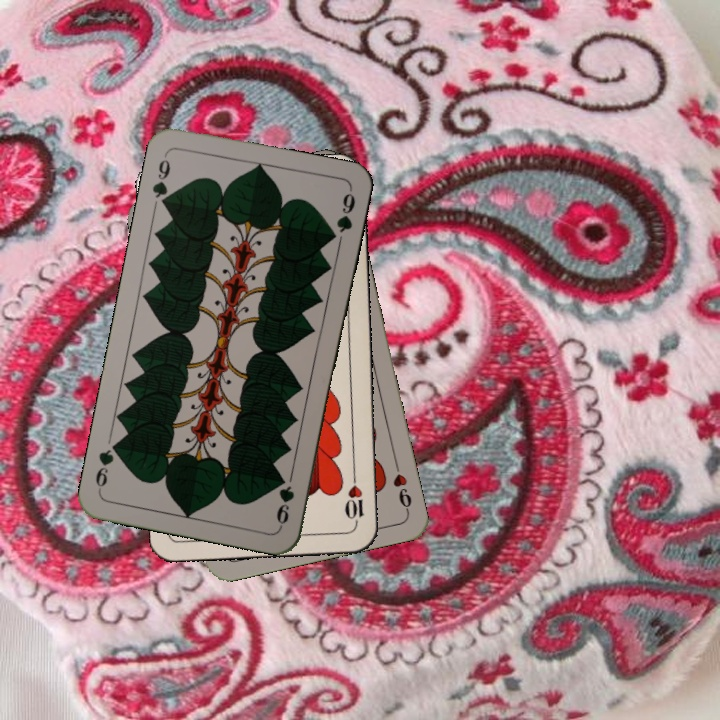G9: (148, 150, 173, 211), (272, 481, 297, 529)
H10: (341, 469, 367, 528)
H9: (389, 456, 414, 515)
